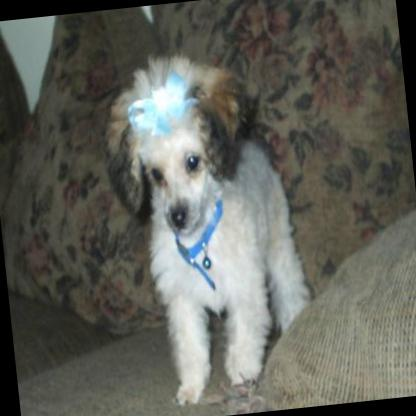toy_poodle: (97, 38, 313, 412)
